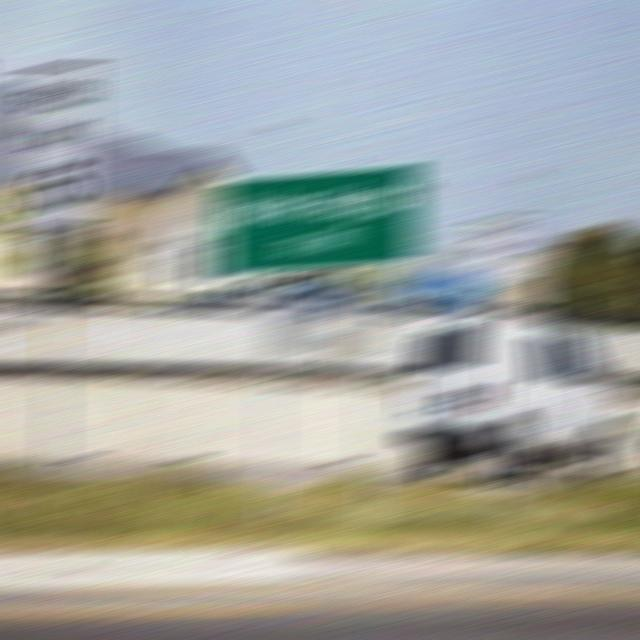speedLimit65: (13, 72, 98, 220)
